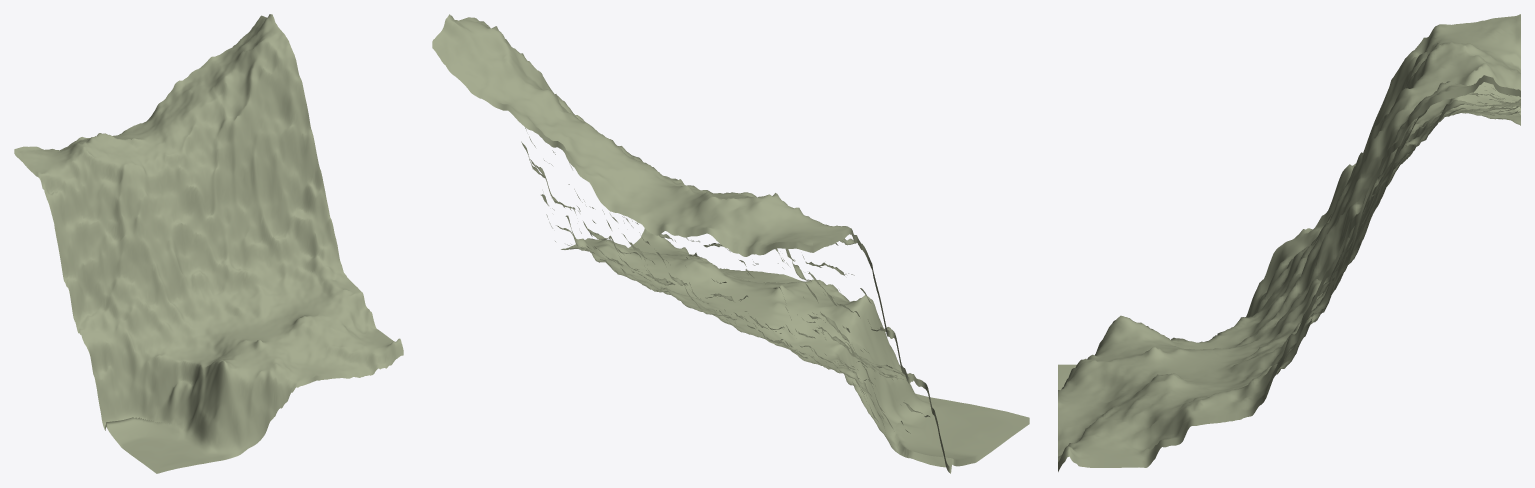
Rendered from terrain_r3_c2_lod0.glb.
The picture shows the model from 3 angles, left to right: view 1: azimuth 30°, elevation 25°; view 2: azimuth 150°, elevation 25°; view 3: azimuth 270°, elevation 25°; orthographic projection. The views are drawn at different scales.
Visible parts, largest first — view 1: terrain_r3_c2; view 2: terrain_r3_c2; view 3: terrain_r3_c2.
Part boxes in pixels (box(x1,y1,x2,y2)): terrain_r3_c2: box(14, 14, 403, 473); terrain_r3_c2: box(432, 14, 1029, 473); terrain_r3_c2: box(1058, 14, 1520, 471).
Bounding box in the file's own units: 50 × 59.16 × 50.
